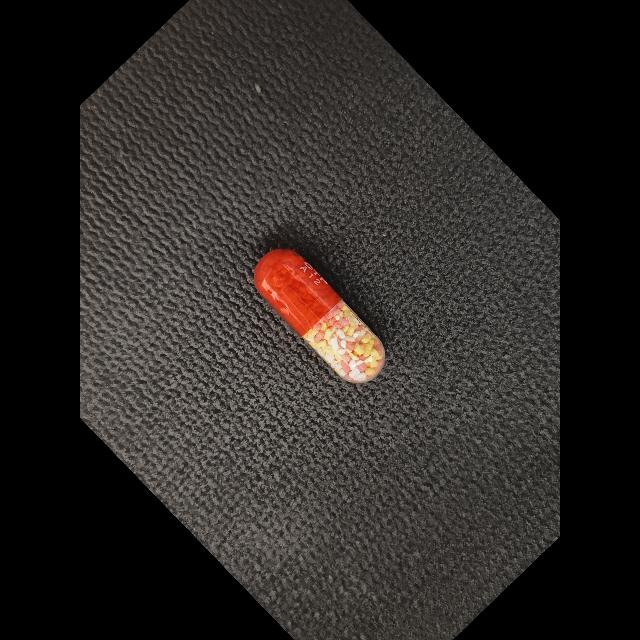Intact Capsule: (254, 249, 385, 383)
